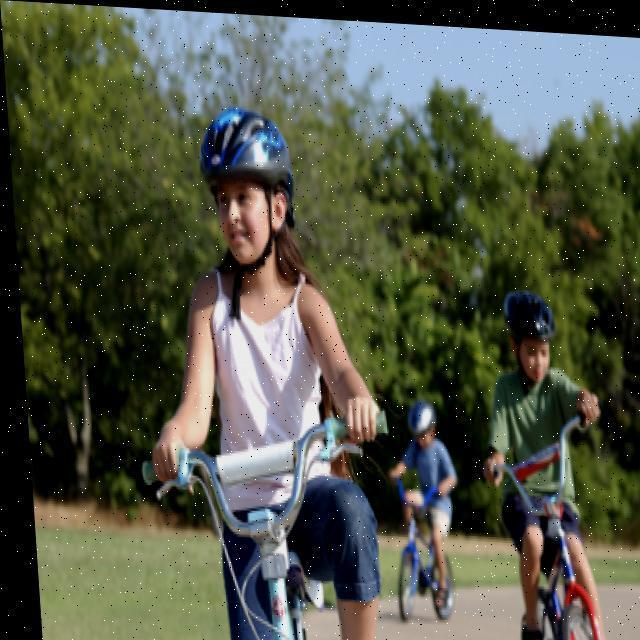Helmet: (185, 89, 307, 276), (494, 280, 560, 381), (391, 382, 437, 448)
